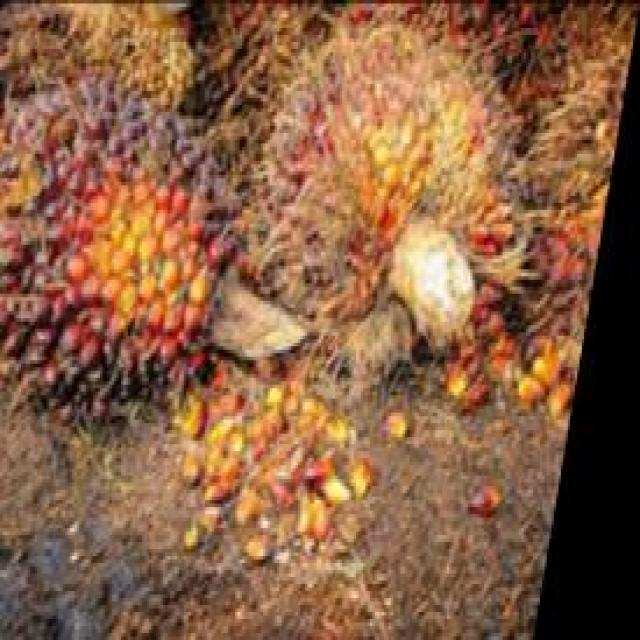Ripefruit: (239, 19, 562, 393), (0, 79, 270, 425)
